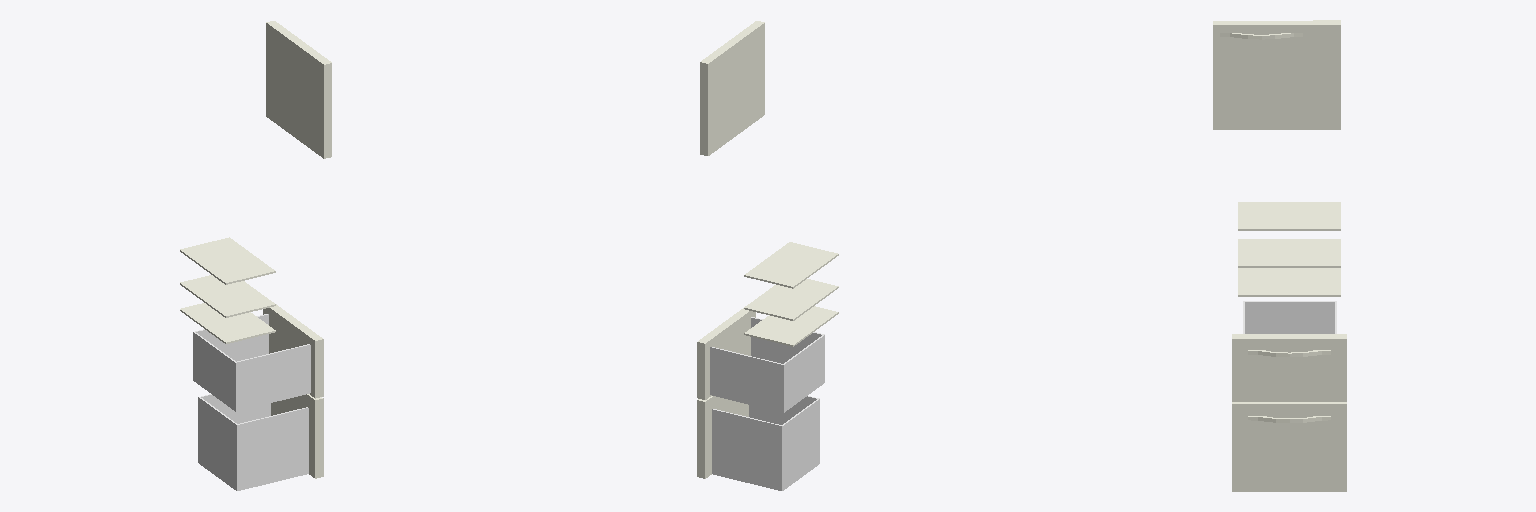
robot.urdf — room73b2-hitachi-fiesta-refrigerator:
<?xml version="1.0"?>
<robot name="room73b2-hitachi-fiesta-refrigerator"
       xmlns:xi="http://www.w3.org/2001/XInclude"
       >
  <gazebo>
    <static>false</static>
  </gazebo>
  <link name="ROOT_link">
    <visual>
      <origin xyz="0 0 0" rpy="0 -0 0"/>
      <geometry>
        <mesh filename="model://room73b2-hitachi-fiesta-refrigerator/meshes/ROOT_link_mesh.dae" scale="1 1 1" />
      </geometry>
    </visual>
    <collision>
      <origin xyz="0 0 0" rpy="0 -0 0"/>
      <geometry>
        <mesh filename="model://room73b2-hitachi-fiesta-refrigerator/meshes/ROOT_link_mesh.dae" scale="1 1 1" />
      </geometry>
    </collision>
    <inertial>
      <mass value="50.0" />
      <origin xyz="0 0 0" rpy="0 -0 0"/>
      <inertia ixx="1" ixy="0" ixz="0" iyy="1" iyz="0" izz="1"/>
    </inertial>
  </link>
  <gazebo reference="ROOT_link">
    <mu1>0.9</mu1>
    <mu2>0.9</mu2>
  </gazebo>
  <link name="ROOM73B2-HITACHI-FIESTA-REFRIGERATOR-BODYSET7_link">
    <visual>
      <origin xyz="0.3 0.245 0.85" rpy="-1.57 -0 0"/>
      <geometry>
        <mesh filename="model://room73b2-hitachi-fiesta-refrigerator/meshes/ROOM73B2-HITACHI-FIESTA-REFRIGERATOR-BODYSET7_link_mesh.dae" scale="1 1 1" />
      </geometry>
    </visual>
    <collision>
      <origin xyz="0.3 0.245 0.85" rpy="-1.57 -0 0"/>
      <geometry>
        <mesh filename="model://room73b2-hitachi-fiesta-refrigerator/meshes/ROOM73B2-HITACHI-FIESTA-REFRIGERATOR-BODYSET7_link_mesh.dae" scale="1 1 1" />
      </geometry>
    </collision>
    <inertial>
      <mass value="2.0" />
      <origin xyz="0 0 0" rpy="0 -0 0"/>
      <inertia ixx="1" ixy="0" ixz="0" iyy="1" iyz="0" izz="1"/>
    </inertial>
  </link>
  <gazebo reference="ROOM73B2-HITACHI-FIESTA-REFRIGERATOR-BODYSET7_link">
    <mu1>0.9</mu1>
    <mu2>0.9</mu2>
  </gazebo>
  <link name="ROOM73B2-HITACHI-FIESTA-REFRIGERATOR-BODYSET6_link">
    <visual>
      <origin xyz="0.05 0 0.66" rpy="0 -0 0"/>
      <geometry>
        <mesh filename="model://room73b2-hitachi-fiesta-refrigerator/meshes/ROOM73B2-HITACHI-FIESTA-REFRIGERATOR-BODYSET6_link_mesh.dae" scale="1 1 1" />
      </geometry>
    </visual>
    <collision>
      <origin xyz="0.05 0 0.66" rpy="0 -0 0"/>
      <geometry>
        <mesh filename="model://room73b2-hitachi-fiesta-refrigerator/meshes/ROOM73B2-HITACHI-FIESTA-REFRIGERATOR-BODYSET6_link_mesh.dae" scale="1 1 1" />
      </geometry>
    </collision>
    <inertial>
      <mass value="1.0" />
      <origin xyz="0 0 0" rpy="0 -0 0"/>
      <inertia ixx="1" ixy="0" ixz="0" iyy="1" iyz="0" izz="1"/>
    </inertial>
  </link>
  <gazebo reference="ROOM73B2-HITACHI-FIESTA-REFRIGERATOR-BODYSET6_link">
    <mu1>0.9</mu1>
    <mu2>0.9</mu2>
  </gazebo>
  <link name="ROOM73B2-HITACHI-FIESTA-REFRIGERATOR-BODYSET5_link">
    <visual>
      <origin xyz="0.06 0 0.24" rpy="0 -0 0"/>
      <geometry>
        <mesh filename="model://room73b2-hitachi-fiesta-refrigerator/meshes/ROOM73B2-HITACHI-FIESTA-REFRIGERATOR-BODYSET5_link_mesh.dae" scale="1 1 1" />
      </geometry>
    </visual>
    <collision>
      <origin xyz="0.06 0 0.24" rpy="0 -0 0"/>
      <geometry>
        <mesh filename="model://room73b2-hitachi-fiesta-refrigerator/meshes/ROOM73B2-HITACHI-FIESTA-REFRIGERATOR-BODYSET5_link_mesh.dae" scale="1 1 1" />
      </geometry>
    </collision>
    <inertial>
      <mass value="1.0" />
      <origin xyz="0 0 0" rpy="0 -0 0"/>
      <inertia ixx="1" ixy="0" ixz="0" iyy="1" iyz="0" izz="1"/>
    </inertial>
  </link>
  <gazebo reference="ROOM73B2-HITACHI-FIESTA-REFRIGERATOR-BODYSET5_link">
    <mu1>0.9</mu1>
    <mu2>0.9</mu2>
  </gazebo>
  <link name="ROOM73B2-HITACHI-FIESTA-REFRIGERATOR-BODYSET4_link">
    <visual>
      <origin xyz="-0.095 0 1.275" rpy="0 -0 0"/>
      <geometry>
        <mesh filename="model://room73b2-hitachi-fiesta-refrigerator/meshes/ROOM73B2-HITACHI-FIESTA-REFRIGERATOR-BODYSET4_link_mesh.dae" scale="1 1 1" />
      </geometry>
    </visual>
    <collision>
      <origin xyz="-0.095 0 1.275" rpy="0 -0 0"/>
      <geometry>
        <mesh filename="model://room73b2-hitachi-fiesta-refrigerator/meshes/ROOM73B2-HITACHI-FIESTA-REFRIGERATOR-BODYSET4_link_mesh.dae" scale="1 1 1" />
      </geometry>
    </collision>
    <inertial>
      <mass value="1.0" />
      <origin xyz="0 0 0" rpy="0 -0 0"/>
      <inertia ixx="1" ixy="0" ixz="0" iyy="1" iyz="0" izz="1"/>
    </inertial>
  </link>
  <gazebo reference="ROOM73B2-HITACHI-FIESTA-REFRIGERATOR-BODYSET4_link">
    <mu1>0.9</mu1>
    <mu2>0.9</mu2>
  </gazebo>
  <link name="ROOM73B2-HITACHI-FIESTA-REFRIGERATOR-BODYSET3_link">
    <visual>
      <origin xyz="-0.095 0 1.085" rpy="0 -0 0"/>
      <geometry>
        <mesh filename="model://room73b2-hitachi-fiesta-refrigerator/meshes/ROOM73B2-HITACHI-FIESTA-REFRIGERATOR-BODYSET3_link_mesh.dae" scale="1 1 1" />
      </geometry>
    </visual>
    <collision>
      <origin xyz="-0.095 0 1.085" rpy="0 -0 0"/>
      <geometry>
        <mesh filename="model://room73b2-hitachi-fiesta-refrigerator/meshes/ROOM73B2-HITACHI-FIESTA-REFRIGERATOR-BODYSET3_link_mesh.dae" scale="1 1 1" />
      </geometry>
    </collision>
    <inertial>
      <mass value="1.0" />
      <origin xyz="0 0 0" rpy="0 -0 0"/>
      <inertia ixx="1" ixy="0" ixz="0" iyy="1" iyz="0" izz="1"/>
    </inertial>
  </link>
  <gazebo reference="ROOM73B2-HITACHI-FIESTA-REFRIGERATOR-BODYSET3_link">
    <mu1>0.9</mu1>
    <mu2>0.9</mu2>
  </gazebo>
  <link name="ROOM73B2-HITACHI-FIESTA-REFRIGERATOR-BODYSET2_link">
    <visual>
      <origin xyz="-0.095 0 0.935" rpy="0 -0 0"/>
      <geometry>
        <mesh filename="model://room73b2-hitachi-fiesta-refrigerator/meshes/ROOM73B2-HITACHI-FIESTA-REFRIGERATOR-BODYSET2_link_mesh.dae" scale="1 1 1" />
      </geometry>
    </visual>
    <collision>
      <origin xyz="-0.095 0 0.935" rpy="0 -0 0"/>
      <geometry>
        <mesh filename="model://room73b2-hitachi-fiesta-refrigerator/meshes/ROOM73B2-HITACHI-FIESTA-REFRIGERATOR-BODYSET2_link_mesh.dae" scale="1 1 1" />
      </geometry>
    </collision>
    <inertial>
      <mass value="1.0" />
      <origin xyz="0 0 0" rpy="0 -0 0"/>
      <inertia ixx="1" ixy="0" ixz="0" iyy="1" iyz="0" izz="1"/>
    </inertial>
  </link>
  <gazebo reference="ROOM73B2-HITACHI-FIESTA-REFRIGERATOR-BODYSET2_link">
    <mu1>0.9</mu1>
    <mu2>0.9</mu2>
  </gazebo>
  <joint name="DOOR1" type="revolute">
    <parent link="ROOT_link"/>
    <child  link="ROOM73B2-HITACHI-FIESTA-REFRIGERATOR-BODYSET7_link"/>
    <origin xyz="0.3 0.245 0.85" rpy="0 -0 0 "/>
    <axis   xyz="0 0 1"/>
    <limit lower="0" upper="2.0944" effort="100" velocity="0.5" />
    <dynamics damping="1" friction="0.1" />
  </joint>
  <transmission type="pr2_mechanism_model/SimpleTransmission" name="DOOR1_trans" >
    <actuator name="DOOR1_motor" />
    <joint name="DOOR1" />
    <mechanicalReduction>1</mechanicalReduction>
  </transmission>
  <gazebo reference="DOOR1">
    <cfmDamping>0.4</cfmDamping>
  </gazebo>
  <joint name="DRAWER1" type="prismatic">
    <parent link="ROOT_link"/>
    <child  link="ROOM73B2-HITACHI-FIESTA-REFRIGERATOR-BODYSET6_link"/>
    <origin xyz="0.05 0 0.66" rpy="0 -0 0 "/>
    <axis   xyz="1 0 0"/>
    <limit lower="0" upper="0.55" effort="100" velocity="0.01" />
    <dynamics damping="1000" friction="10." />
  </joint>
  <transmission type="pr2_mechanism_model/SimpleTransmission" name="DRAWER1_trans" >
    <actuator name="DRAWER1_motor" />
    <joint name="DRAWER1" />
    <mechanicalReduction>1</mechanicalReduction>
  </transmission>
  <gazebo reference="DRAWER1">
    <cfmDamping>0.4</cfmDamping>
  </gazebo>
  <joint name="DRAWER2" type="prismatic">
    <parent link="ROOT_link"/>
    <child  link="ROOM73B2-HITACHI-FIESTA-REFRIGERATOR-BODYSET5_link"/>
    <origin xyz="0.06 0 0.24" rpy="0 -0 0 "/>
    <axis   xyz="1 0 0"/>
    <limit lower="0" upper="0.55" effort="100" velocity="0.01" />
    <dynamics damping="1000" friction="10." />
  </joint>
  <transmission type="pr2_mechanism_model/SimpleTransmission" name="DRAWER2_trans" >
    <actuator name="DRAWER2_motor" />
    <joint name="DRAWER2" />
    <mechanicalReduction>1</mechanicalReduction>
  </transmission>
  <gazebo reference="DRAWER2">
    <cfmDamping>0.4</cfmDamping>
  </gazebo>
  <joint name="SHELF1" type="prismatic">
    <parent link="ROOT_link"/>
    <child  link="ROOM73B2-HITACHI-FIESTA-REFRIGERATOR-BODYSET4_link"/>
    <origin xyz="-0.095 0 1.275" rpy="0 -0 0 "/>
    <axis   xyz="1 0 0"/>
    <limit lower="0" upper="0.3" effort="100" velocity="0.01" />
    <dynamics damping="1000" friction="10." />
  </joint>
  <transmission type="pr2_mechanism_model/SimpleTransmission" name="SHELF1_trans" >
    <actuator name="SHELF1_motor" />
    <joint name="SHELF1" />
    <mechanicalReduction>1</mechanicalReduction>
  </transmission>
  <gazebo reference="SHELF1">
    <cfmDamping>0.4</cfmDamping>
  </gazebo>
  <joint name="SHELF2" type="prismatic">
    <parent link="ROOT_link"/>
    <child  link="ROOM73B2-HITACHI-FIESTA-REFRIGERATOR-BODYSET3_link"/>
    <origin xyz="-0.095 0 1.085" rpy="0 -0 0 "/>
    <axis   xyz="1 0 0"/>
    <limit lower="0" upper="0.3" effort="100" velocity="0.01" />
    <dynamics damping="1000" friction="10." />
  </joint>
  <transmission type="pr2_mechanism_model/SimpleTransmission" name="SHELF2_trans" >
    <actuator name="SHELF2_motor" />
    <joint name="SHELF2" />
    <mechanicalReduction>1</mechanicalReduction>
  </transmission>
  <gazebo reference="SHELF2">
    <cfmDamping>0.4</cfmDamping>
  </gazebo>
  <joint name="SHELF3" type="prismatic">
    <parent link="ROOT_link"/>
    <child  link="ROOM73B2-HITACHI-FIESTA-REFRIGERATOR-BODYSET2_link"/>
    <origin xyz="-0.095 0 0.935" rpy="0 -0 0 "/>
    <axis   xyz="1 0 0"/>
    <limit lower="0" upper="0.3" effort="100" velocity="0.01" />
    <dynamics damping="1000" friction="10." />
  </joint>
  <transmission type="pr2_mechanism_model/SimpleTransmission" name="SHELF3_trans" >
    <actuator name="SHELF3_motor" />
    <joint name="SHELF3" />
    <mechanicalReduction>1</mechanicalReduction>
  </transmission>
  <gazebo reference="SHELF3">
    <cfmDamping>0.4</cfmDamping>
  </gazebo>
</robot>

--- What the picture shows (computed from the rendered views, not written in the file) ---
3 views of the same robot in one strip: view 1: azimuth 30°, elevation 25°; view 2: azimuth 150°, elevation 25°; view 3: azimuth 270°, elevation 25° (orthographic).
Model room73b2-hitachi-fiesta-refrigerator with 7 links and 6 joints (1 revolute, 5 prismatic), rooted at ROOT_link, posed all joints at 0.
Links seen in each view (by area): view 1: ROOM73B2-HITACHI-FIESTA-REFRIGERATOR-BODYSET5_link, ROOM73B2-HITACHI-FIESTA-REFRIGERATOR-BODYSET6_link, ROOM73B2-HITACHI-FIESTA-REFRIGERATOR-BODYSET7_link, ROOM73B2-HITACHI-FIESTA-REFRIGERATOR-BODYSET4_link, ROOM73B2-HITACHI-FIESTA-REFRIGERATOR-BODYSET3_link, ROOM73B2-HITACHI-FIESTA-REFRIGERATOR-BODYSET2_link; view 2: ROOM73B2-HITACHI-FIESTA-REFRIGERATOR-BODYSET5_link, ROOM73B2-HITACHI-FIESTA-REFRIGERATOR-BODYSET6_link, ROOM73B2-HITACHI-FIESTA-REFRIGERATOR-BODYSET7_link, ROOM73B2-HITACHI-FIESTA-REFRIGERATOR-BODYSET4_link, ROOM73B2-HITACHI-FIESTA-REFRIGERATOR-BODYSET3_link, ROOM73B2-HITACHI-FIESTA-REFRIGERATOR-BODYSET2_link; view 3: ROOM73B2-HITACHI-FIESTA-REFRIGERATOR-BODYSET7_link, ROOM73B2-HITACHI-FIESTA-REFRIGERATOR-BODYSET6_link, ROOM73B2-HITACHI-FIESTA-REFRIGERATOR-BODYSET5_link, ROOM73B2-HITACHI-FIESTA-REFRIGERATOR-BODYSET4_link, ROOM73B2-HITACHI-FIESTA-REFRIGERATOR-BODYSET3_link, ROOM73B2-HITACHI-FIESTA-REFRIGERATOR-BODYSET2_link.
Boxes of the visible links, left/top/right/bottom form: ROOM73B2-HITACHI-FIESTA-REFRIGERATOR-BODYSET5_link: left=198, top=394, right=323, bottom=490; ROOM73B2-HITACHI-FIESTA-REFRIGERATOR-BODYSET6_link: left=193, top=302, right=323, bottom=411; ROOM73B2-HITACHI-FIESTA-REFRIGERATOR-BODYSET7_link: left=266, top=21, right=331, bottom=158; ROOM73B2-HITACHI-FIESTA-REFRIGERATOR-BODYSET4_link: left=180, top=237, right=275, bottom=284; ROOM73B2-HITACHI-FIESTA-REFRIGERATOR-BODYSET3_link: left=180, top=275, right=275, bottom=317; ROOM73B2-HITACHI-FIESTA-REFRIGERATOR-BODYSET2_link: left=180, top=303, right=275, bottom=343; ROOM73B2-HITACHI-FIESTA-REFRIGERATOR-BODYSET5_link: left=697, top=396, right=819, bottom=490; ROOM73B2-HITACHI-FIESTA-REFRIGERATOR-BODYSET6_link: left=697, top=304, right=824, bottom=412; ROOM73B2-HITACHI-FIESTA-REFRIGERATOR-BODYSET7_link: left=700, top=21, right=764, bottom=155; ROOM73B2-HITACHI-FIESTA-REFRIGERATOR-BODYSET4_link: left=744, top=242, right=838, bottom=288; ROOM73B2-HITACHI-FIESTA-REFRIGERATOR-BODYSET3_link: left=744, top=279, right=838, bottom=320; ROOM73B2-HITACHI-FIESTA-REFRIGERATOR-BODYSET2_link: left=744, top=306, right=838, bottom=346; ROOM73B2-HITACHI-FIESTA-REFRIGERATOR-BODYSET7_link: left=1213, top=20, right=1340, bottom=129; ROOM73B2-HITACHI-FIESTA-REFRIGERATOR-BODYSET6_link: left=1232, top=301, right=1346, bottom=401; ROOM73B2-HITACHI-FIESTA-REFRIGERATOR-BODYSET5_link: left=1232, top=402, right=1346, bottom=491; ROOM73B2-HITACHI-FIESTA-REFRIGERATOR-BODYSET4_link: left=1238, top=202, right=1340, bottom=230; ROOM73B2-HITACHI-FIESTA-REFRIGERATOR-BODYSET3_link: left=1238, top=239, right=1340, bottom=267; ROOM73B2-HITACHI-FIESTA-REFRIGERATOR-BODYSET2_link: left=1238, top=268, right=1340, bottom=296.
Bounding box of the posed robot: 0.6072 × 0.6306 × 2.41 m (x, y, z).
6 mesh visuals loaded from 7 distinct referenced files (6 Collada DAE); not drawn: 1 (reference not matched to a file when rendering).
